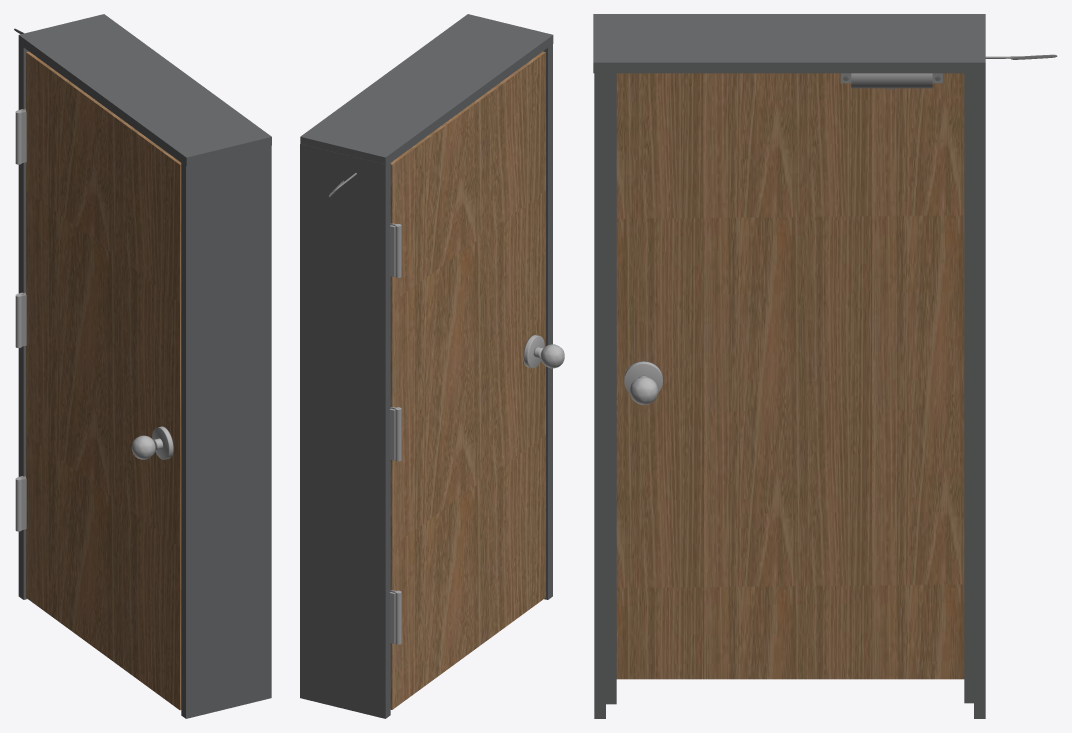
File: Door.fbx
3 views of the same model, side by side, from view 1: azimuth 30°, elevation 25°; view 2: azimuth 150°, elevation 25°; view 3: azimuth 270°, elevation 25° (orthographic). The views are drawn at different scales.
Visible parts, largest first — view 1: Cube, Cube.001, Cylinder.001; view 2: Cube, Cube.001, Cylinder.001; view 3: Cube, Cube.001, Cylinder.003, Cylinder.012.
Part boxes in pixels (x1,y1,x2,y2): Cube: (26,51,181,710); Cube.001: (18,14,271,718); Cylinder.001: (131,426,173,459); Cube: (390,51,545,709); Cube.001: (300,14,553,718); Cylinder.001: (523,335,564,368); Cube: (616,73,964,679); Cube.001: (593,14,985,718); Cylinder.003: (840,73,943,88); Cylinder.012: (624,361,662,404).
Size of the model in its own units: 274 by 1256 by 805.
